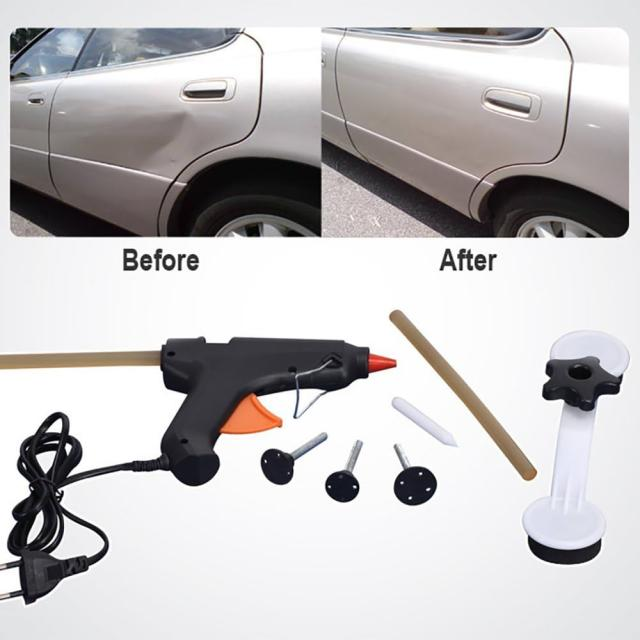dent: (99, 106, 200, 173)
